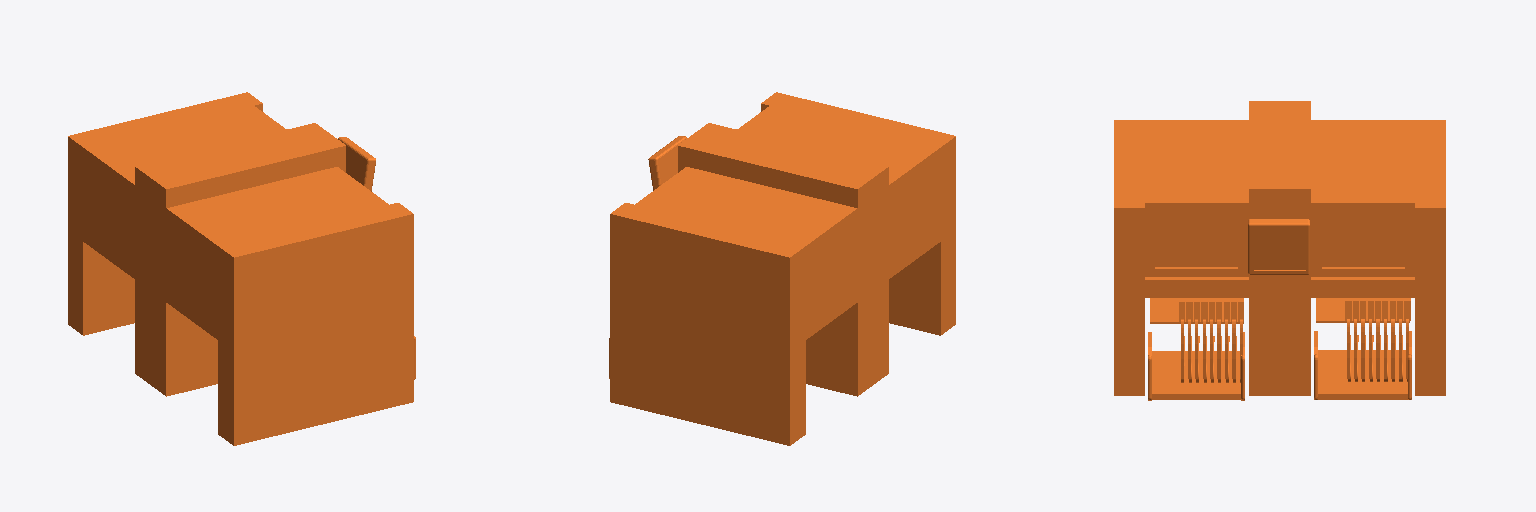
The model's file is 贴片机（异常）.obj.
3 renders of one model, left to right at view 1: azimuth 30°, elevation 25°; view 2: azimuth 150°, elevation 25°; view 3: azimuth 270°, elevation 25°, orthographic.
Parts seen in each view (by area): view 1: ???_9, ???_1, ???_3_2, ???_4_2, ???_2_1, ???_5_3; view 2: ???_2_1, ???_1, ???_4_2, ???_3_2, ???_9, ???_5_3; view 3: ???_1, ???_4_2, ???_3_2, ???_2_1, ???_9, ???_6_2, ???_5_2, ???_8, ???_5, ???_6_3, ???_5_3, ???_6 (+3 smaller).
Boxes of the visible parts, <box> form: ???_9: <box>218,203,413,445</box>; ???_1: <box>135,123,345,396</box>; ???_3_2: <box>166,167,388,339</box>; ???_4_2: <box>83,106,286,278</box>; ???_2_1: <box>68,92,262,335</box>; ???_5_3: <box>338,137,375,191</box>; ???_2_1: <box>610,203,805,445</box>; ???_1: <box>678,123,888,396</box>; ???_4_2: <box>635,167,857,339</box>; ???_3_2: <box>737,106,940,278</box>; ???_9: <box>761,92,955,335</box>; ???_5_3: <box>648,136,686,190</box>; ???_1: <box>1249,101,1310,395</box>; ???_4_2: <box>1311,120,1414,297</box>; ???_3_2: <box>1145,120,1248,297</box>; ???_2_1: <box>1415,120,1445,395</box>; ???_9: <box>1114,120,1144,395</box>; ???_6_2: <box>1322,213,1404,268</box>; ???_5_2: <box>1155,213,1237,268</box>; ???_8: <box>1318,350,1407,399</box>; ???_5: <box>1152,351,1240,399</box>; ???_6_3: <box>1254,228,1305,270</box>; ???_5_3: <box>1248,219,1309,274</box>; ???_6: <box>1150,298,1243,323</box>.
Bounding box in the file's own units: 234 × 220 × 320.